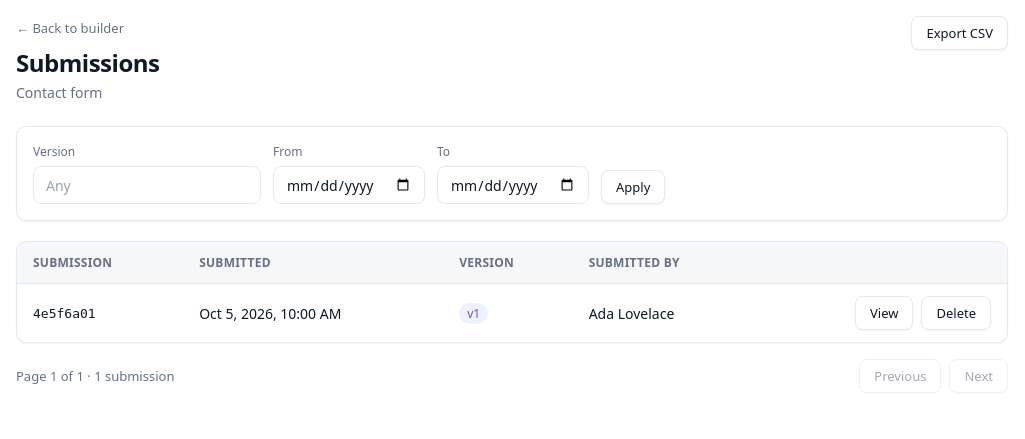
SubmissionsPage › sends validated filters and can clear them
expect the table is shown: met, box [17,242,1007,342]
Type "abc" into the field labelled "Version" at (147, 185), box [33,166,261,204]
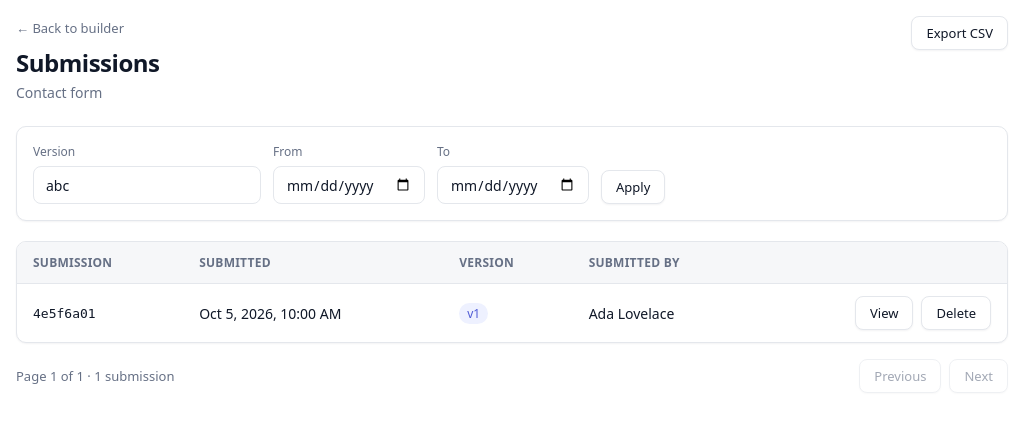
Click the button "Apply" at (633, 187), box [601,170,665,204]
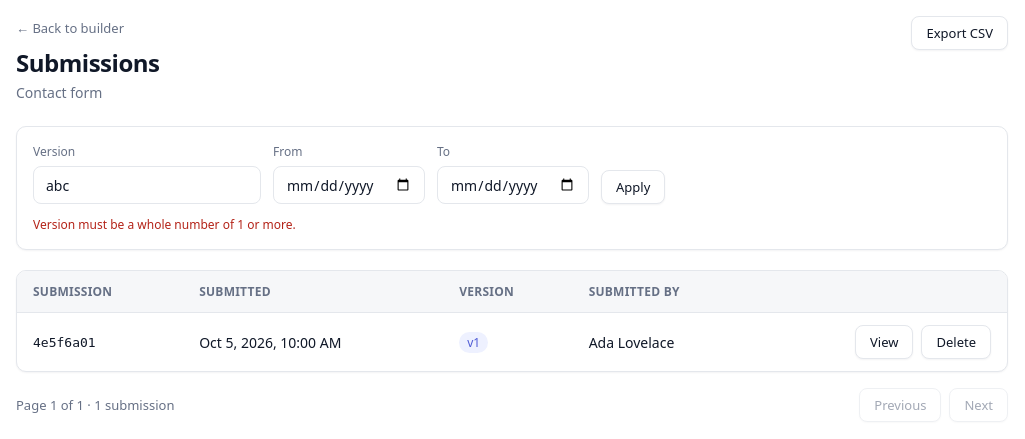
expect the message shows "whole number": met, box [33,216,296,233]
Replace the text in the field labelled "Version" with "2" at (147, 185), box [33,166,261,204]
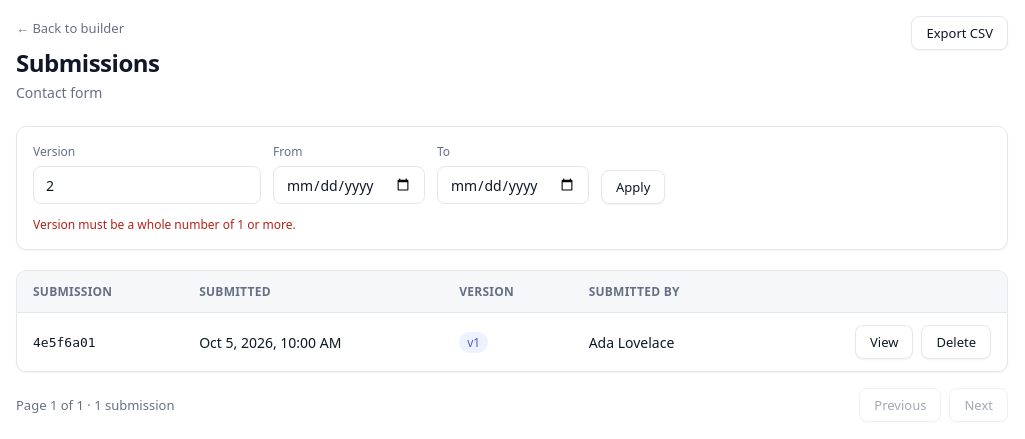
Type "2026-01-01" into the date field labelled "From" at (349, 185), box [273,166,425,204]
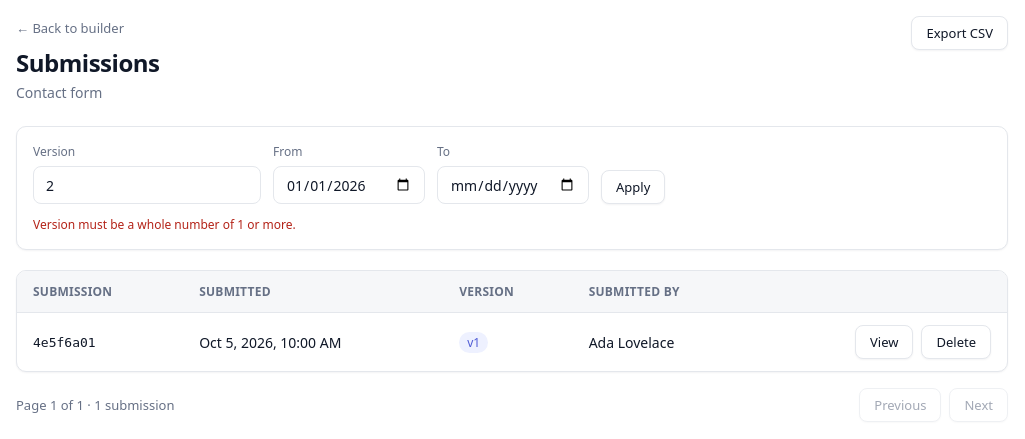
Click the button "Apply" at (633, 187), box [601,170,665,204]
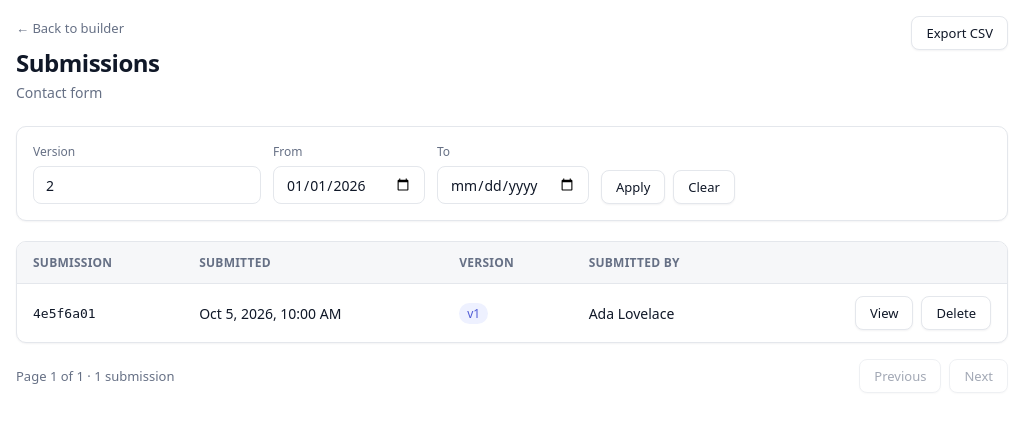
Click the button "Clear" at (704, 187), box [673,170,735,204]
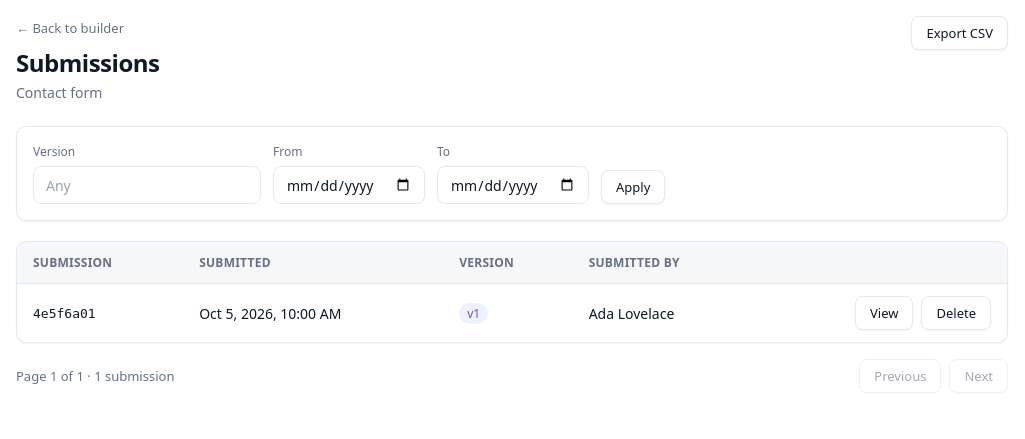
expect the button "Clear" is gone: met
